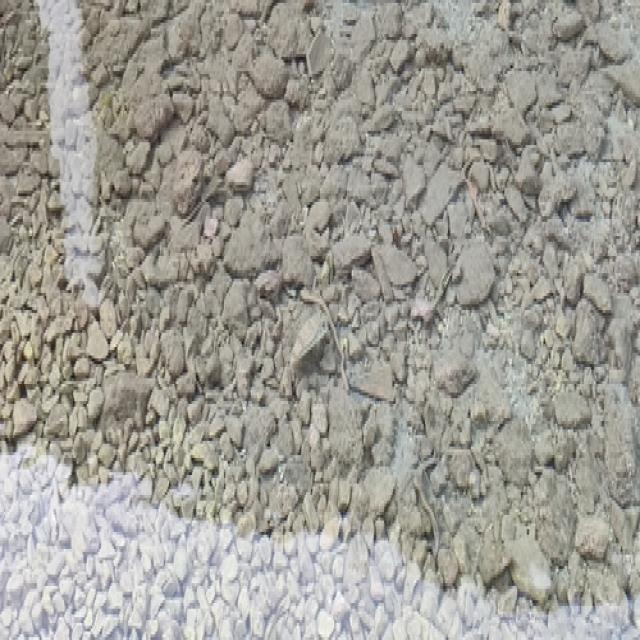Balik: (289, 313, 329, 367)
